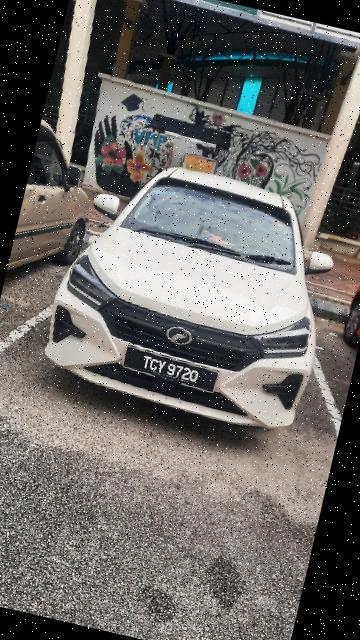License_Plate: (117, 343, 228, 401)
car: (22, 127, 360, 455)
